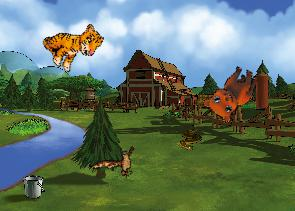bear: (199, 57, 261, 127)
eagle: (88, 134, 147, 192)
tiger: (37, 9, 107, 78)
